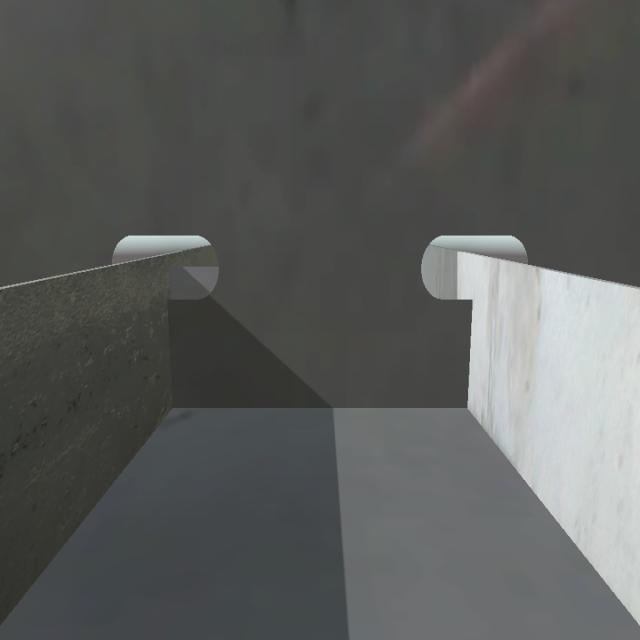fillet_yong_jeop_jang: (172, 396, 468, 420)
longi_yong_jeop_jang: (165, 297, 180, 407), (462, 299, 474, 409)
